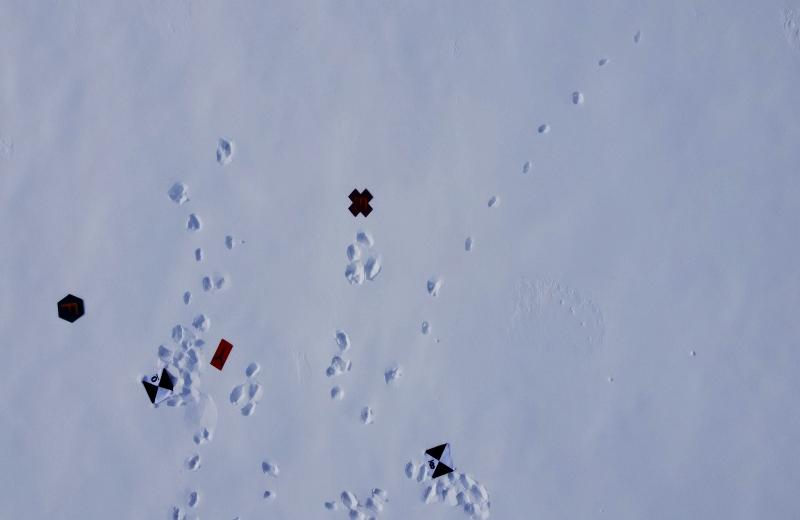Cross: (345, 184, 376, 220)
Hexagon: (54, 289, 88, 324)
Rectangle: (210, 334, 235, 374)
